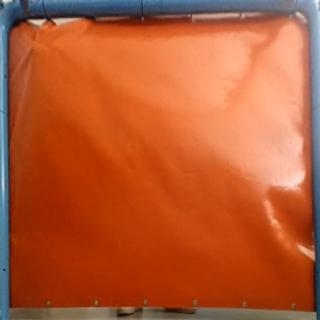Hit-hRxx: (23, 40, 42, 54)
